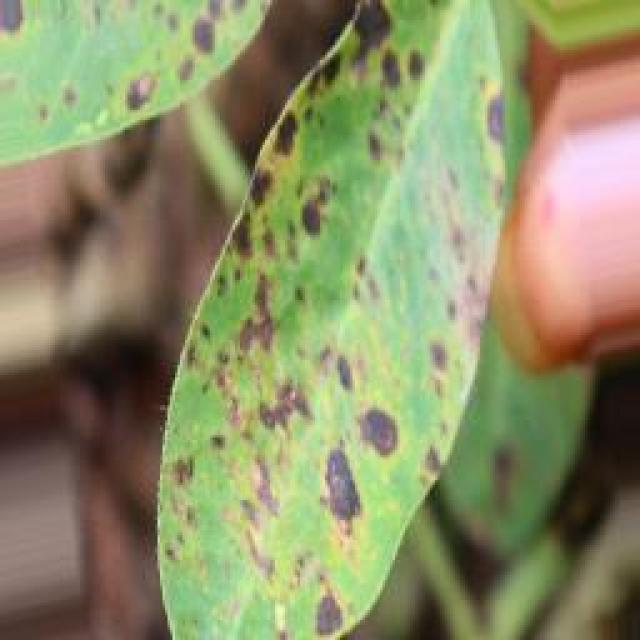Yellowish: (101, 0, 544, 640), (0, 0, 281, 131)
